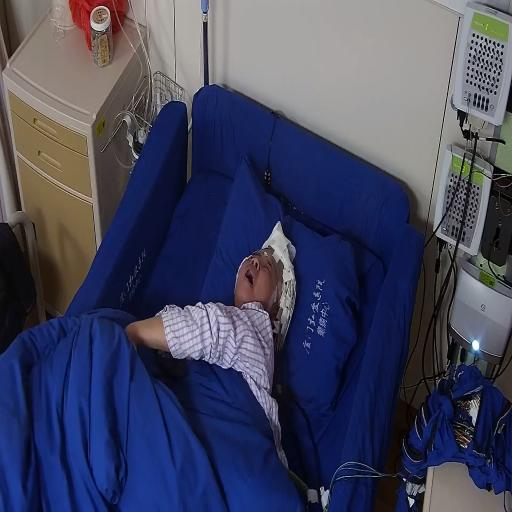Seizure: (233, 245, 281, 311)
